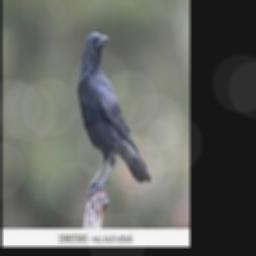Crow: (77, 31, 152, 187)
